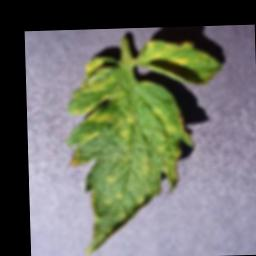Leaf_Mold: (64, 53, 198, 256), (137, 39, 224, 89)
